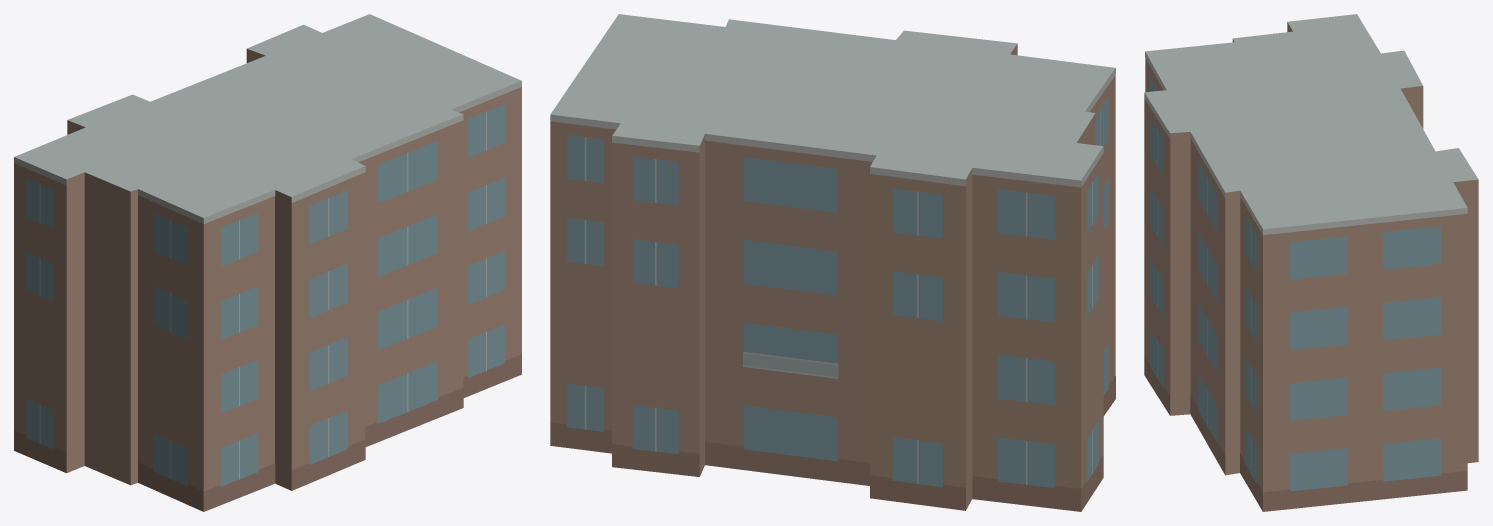
Rendered from survey-upis-32978277.glb.
3 views of the same model, side by side, from view 1: azimuth 30°, elevation 25°; view 2: azimuth 150°, elevation 25°; view 3: azimuth 270°, elevation 25° (orthographic). The views are drawn at different scales.
Parts seen in each view (by area): view 1: survey-upis-32978277.tmp; view 2: survey-upis-32978277.tmp; view 3: survey-upis-32978277.tmp.
Part boxes in pixels (<box>): survey-upis-32978277.tmp: <box>14,14,521,511</box>; survey-upis-32978277.tmp: <box>550,14,1115,511</box>; survey-upis-32978277.tmp: <box>1144,14,1478,511</box>.
Bounding box in the file's own units: 19.3 × 11.8 × 12.67.
